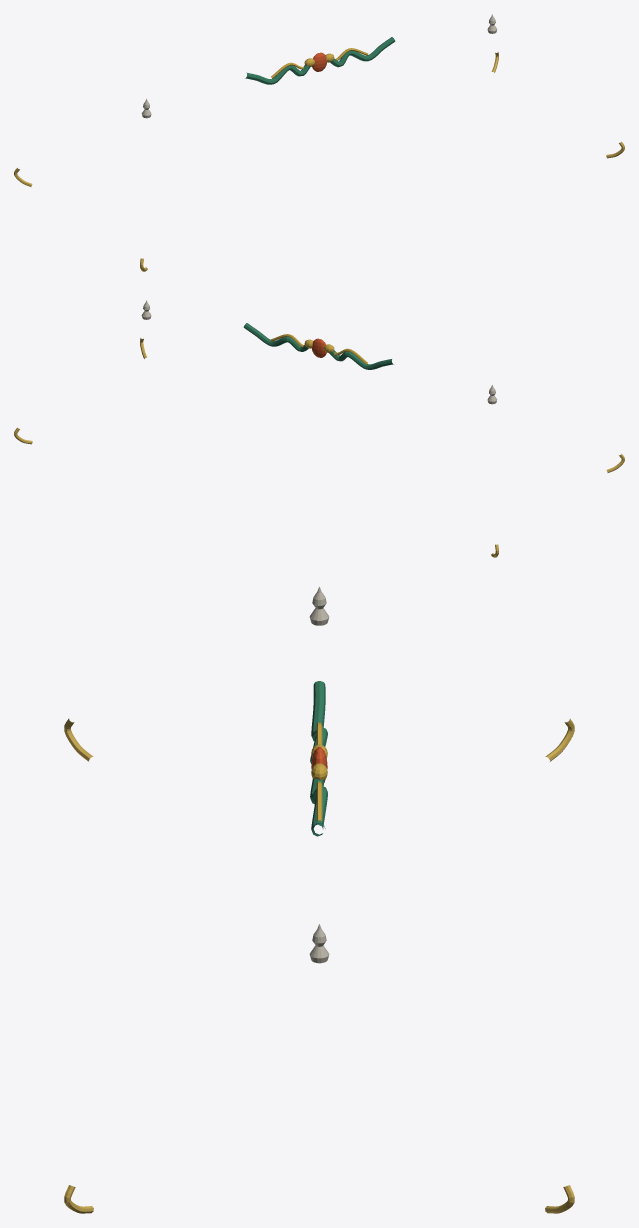
Rendered from truongsanh-hero.glb.
3 views of the same model, one above another, from view 1: azimuth 30°, elevation 25°; view 2: azimuth 150°, elevation 25°; view 3: azimuth 270°, elevation 25° (orthographic). The views are drawn at different scales.
Parts seen in each view (by area): view 1: truongsanh_hero_ornaments; view 2: truongsanh_hero_ornaments; view 3: truongsanh_hero_ornaments.
Part boxes in pixels (x1=…): truongsanh_hero_ornaments: x1=14, y1=14, x2=624, y2=271; truongsanh_hero_ornaments: x1=14, y1=300, x2=624, y2=557; truongsanh_hero_ornaments: x1=64, y1=587, x2=574, y2=1213.
Size of the model in its own units: 23.54 by 5.55 by 10.74.
